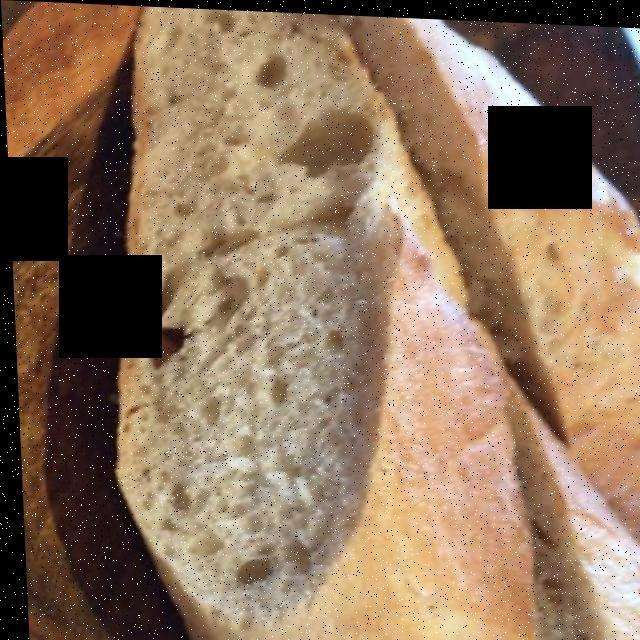bread: (161, 16, 640, 640)
